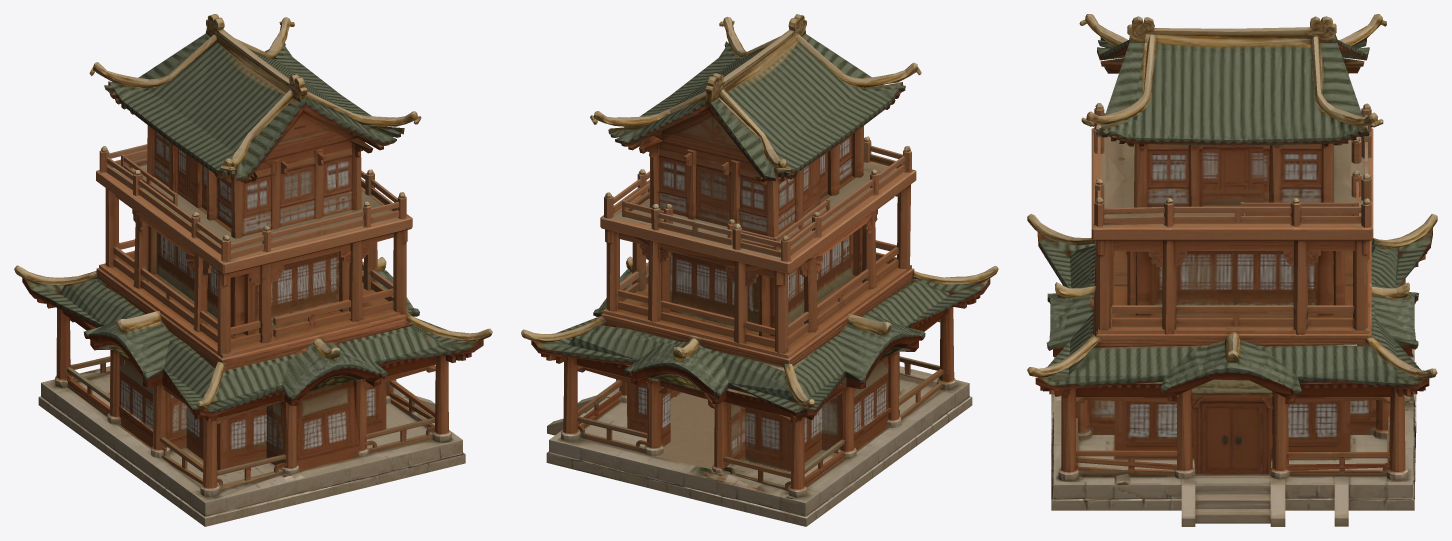
The model's file is MDL_Environment_TownExterior01_ShopLevel03_Dianpu3p_C98C.fbx.
3 views of the same model, side by side, from view 1: azimuth 30°, elevation 25°; view 2: azimuth 150°, elevation 25°; view 3: azimuth 270°, elevation 25° (orthographic). The views are drawn at different scales.
Parts seen in each view (by area): view 1: Object59469; view 2: Object59469; view 3: Object59469.
Part boxes in pixels (bbox=[...]): Object59469: bbox=[14, 14, 492, 526]; Object59469: bbox=[521, 14, 998, 526]; Object59469: bbox=[1027, 14, 1437, 526].
Bounding box in the file's own units: 37.34 × 44.89 × 39.27.
